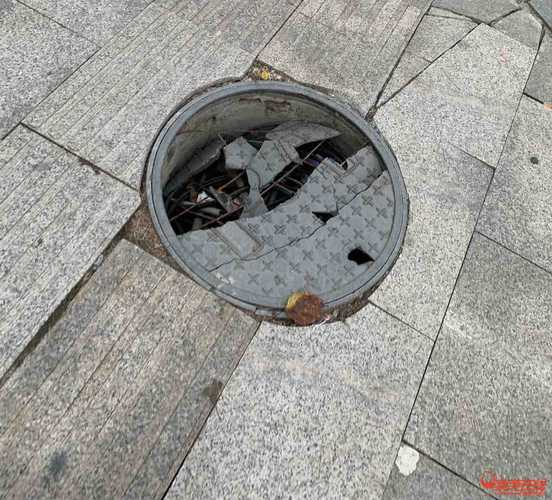broke: (138, 72, 420, 331)
